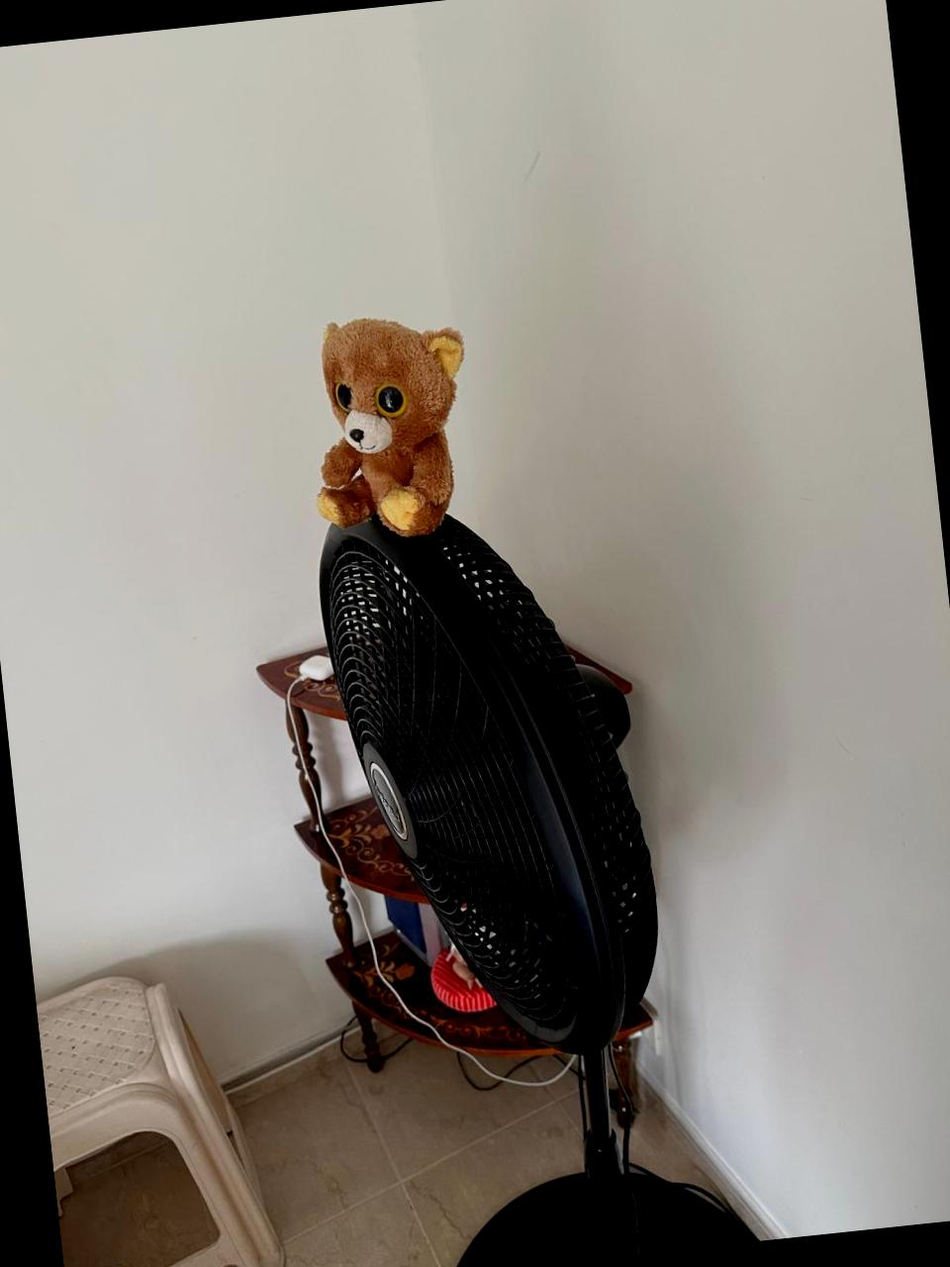peluche_sebastian: (296, 306, 486, 540)
